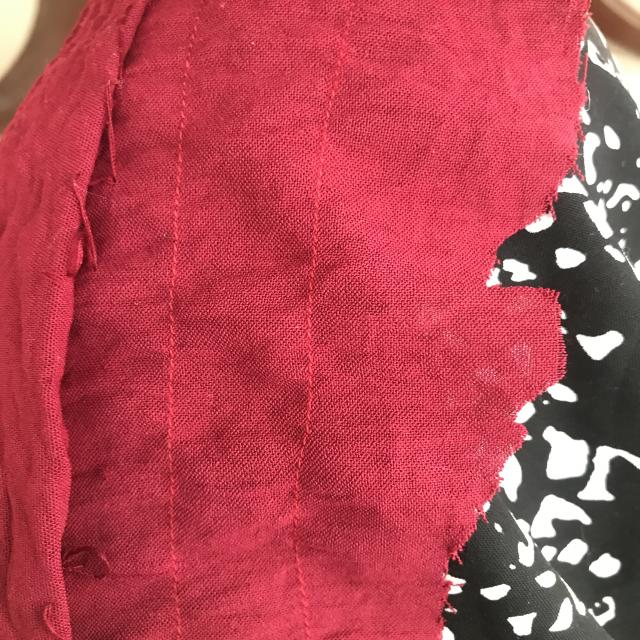good: (150, 275, 198, 456)
